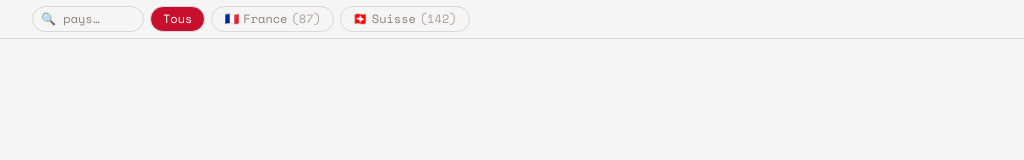
CountryFilter › filtre les chips à la saisie, insensible aux accents
Expected: the button "🇨🇭Suisse(142)" is shown, [340,6,470,32]
Type "fra" into the field named "Filtrer les pays". click: {"x": 88, "y": 19}
box: [32,6,144,32]
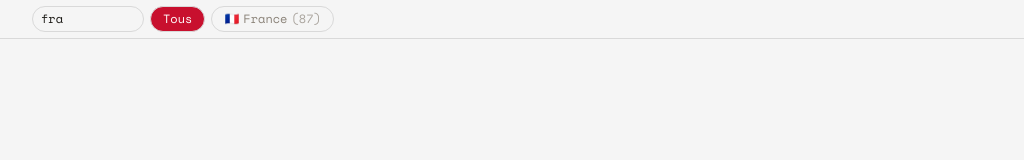
Expected: the button "🇫🇷France(87)" is shown, [211,6,334,32]
Now the button "Suisse" is gone
